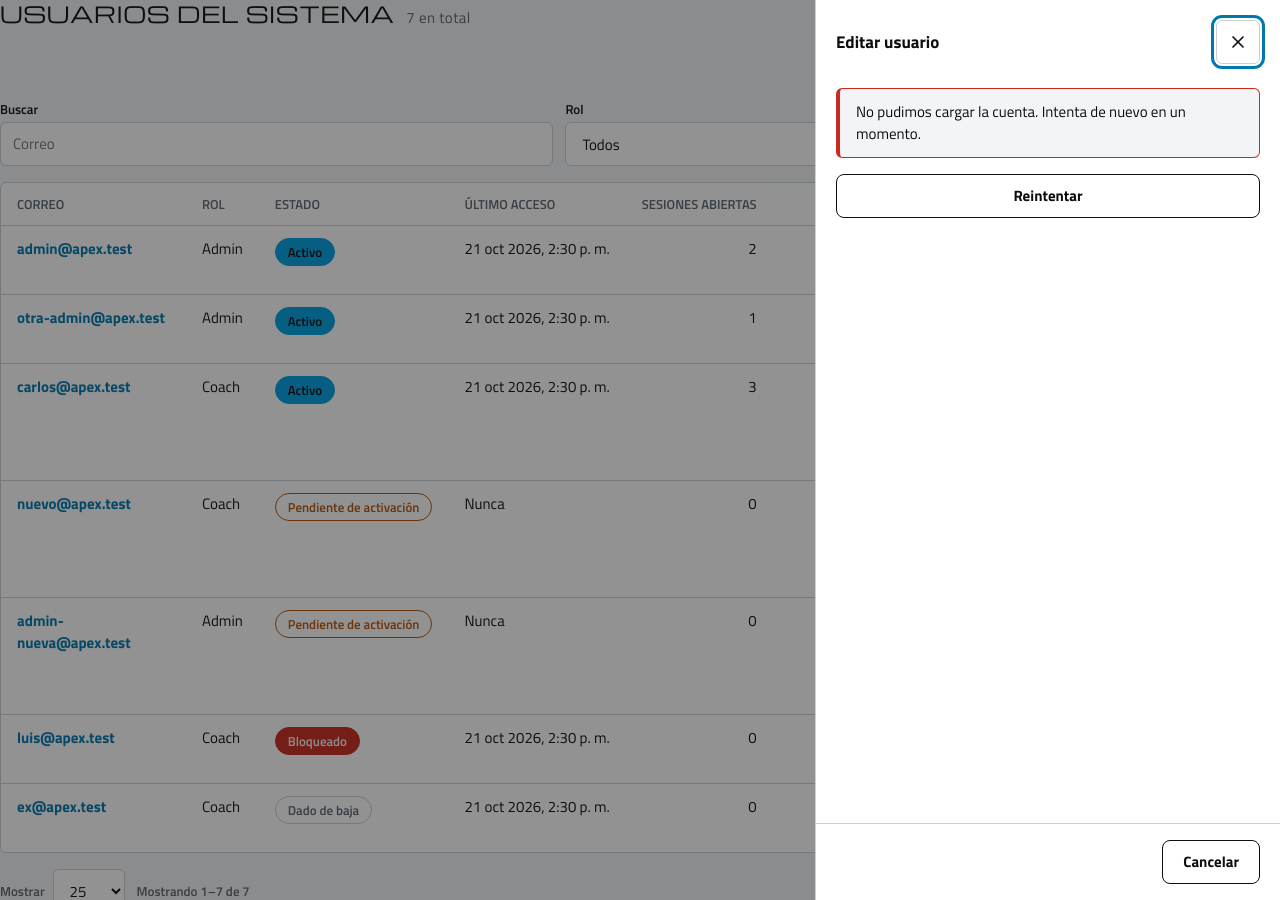
Test: EditUserPanel · abrir (US-049) › un error del servidor se puede reintentar
Expected: the message reads "No pudimos cargar la cuenta. Intenta de nuevo en un momento.", [856,100,1186,145]
Click the button "Reintentar".
click(1048, 196)  # box [836,174,1260,218]
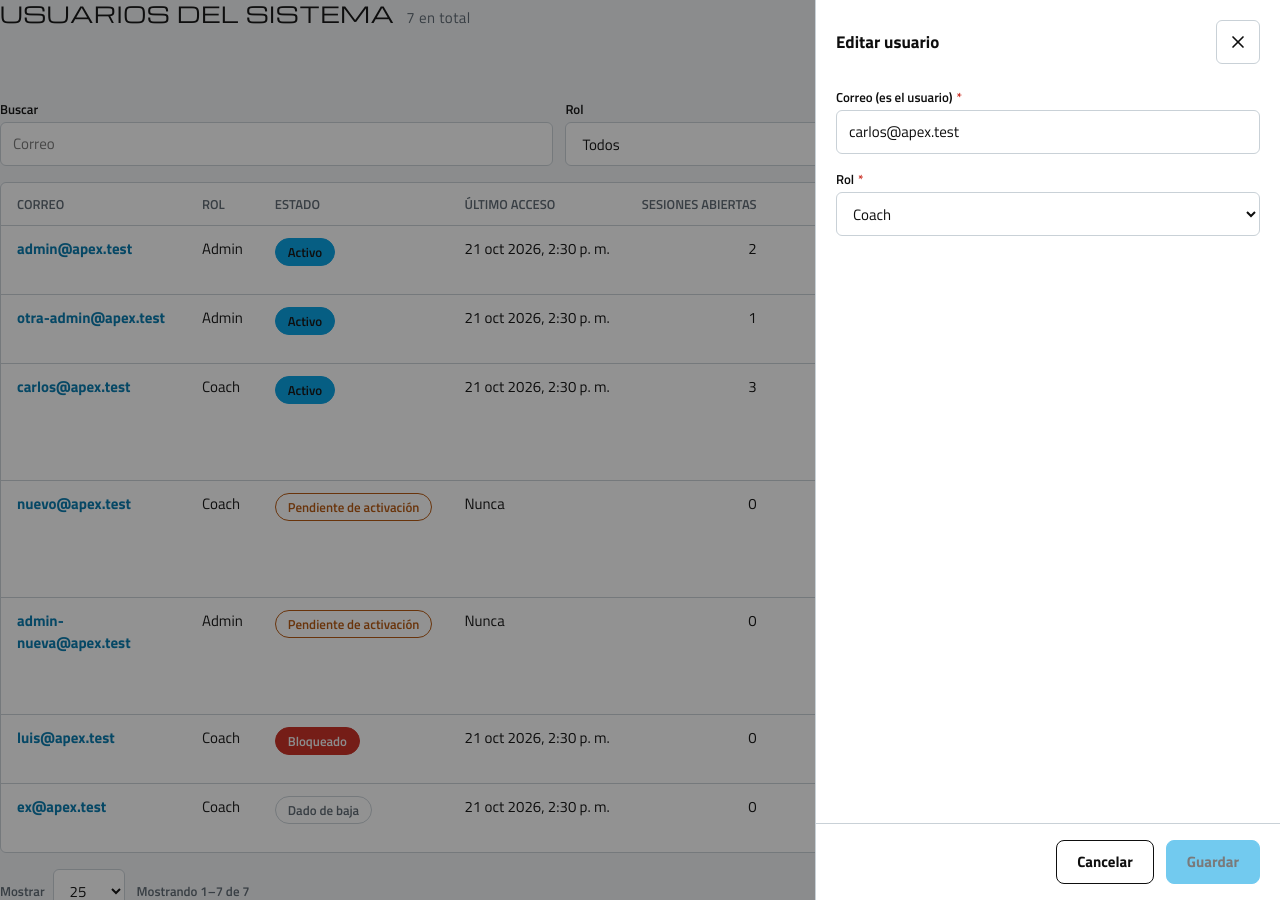
Expected: the field showing "carlos@apex.test" is shown, [836,110,1260,154]
